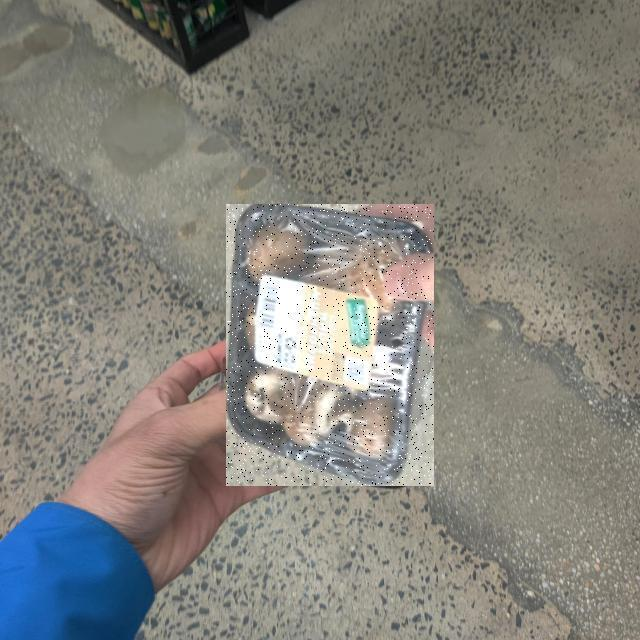Mushroom: (227, 204, 435, 486)
